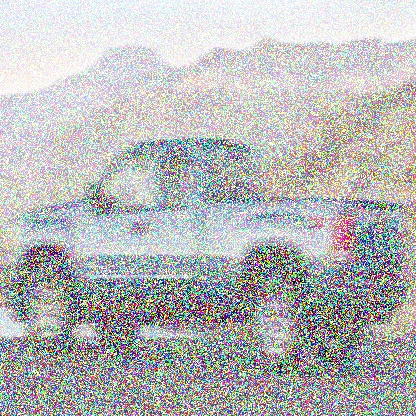Vehicle: (9, 130, 411, 377)
